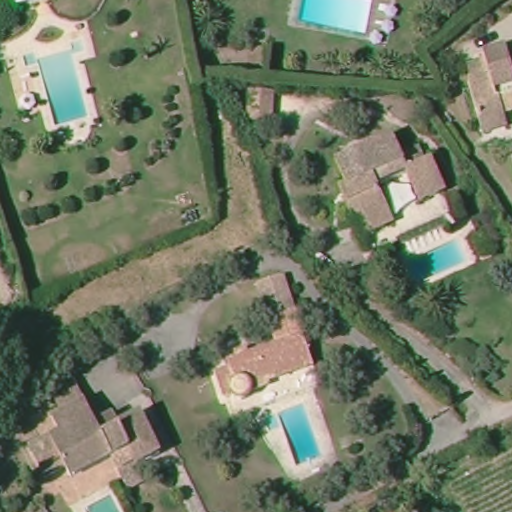pool: (18, 37, 92, 124), (276, 400, 323, 466), (410, 234, 470, 283), (297, 1, 374, 36), (62, 492, 119, 509)
